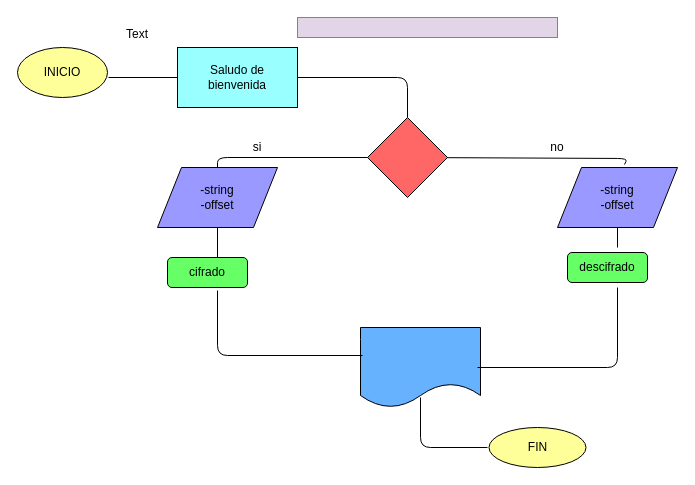
Some shapes in this 695 by 485 pixel diagram are drawn without their labels. The shapes that lost their labels are listed below. From the top down, each one's centre as x and y in pixels, then its label:
(427,27): DIAGRAMA DE FLUJO CIPHER CESAR
(407,157): opcion cifrar
(420,367): resultado
